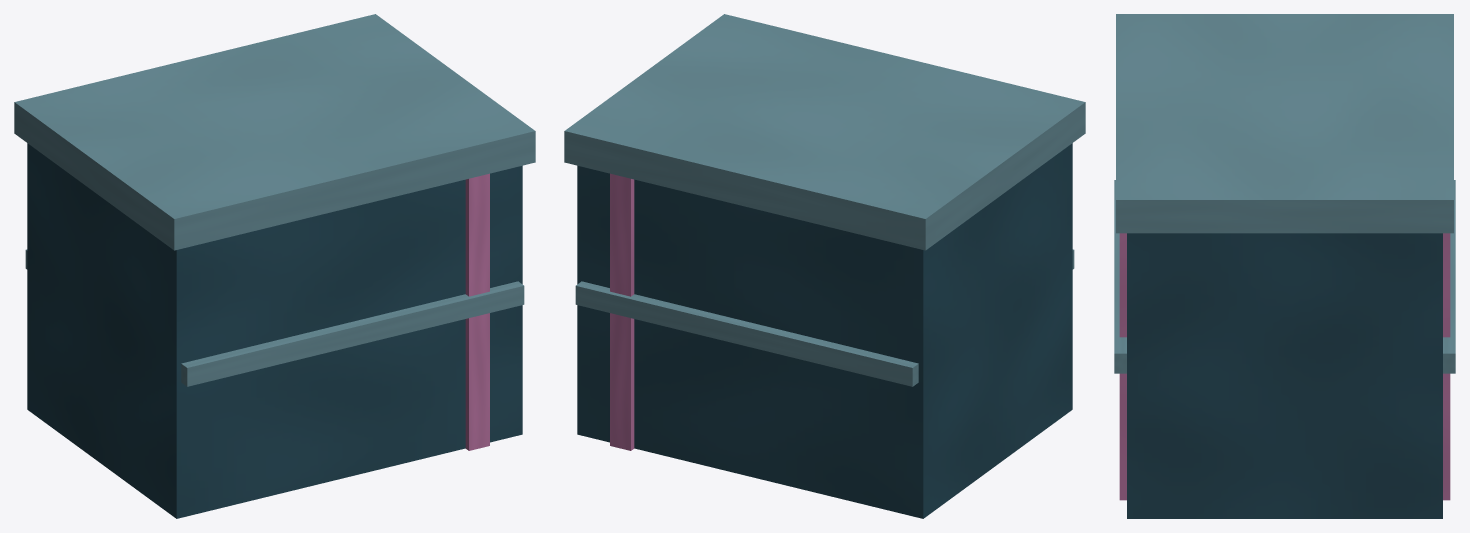
Rendered from atlas100-abyss-util02.lod2.glb.
3 views of the same model, side by side, from view 1: azimuth 30°, elevation 25°; view 2: azimuth 150°, elevation 25°; view 3: azimuth 270°, elevation 25° (orthographic). The views are drawn at different scales.
Visible parts, largest first — view 1: atlas100-abyss-util02:part-000, atlas100-abyss-util02:part-005, atlas100-abyss-util02:part-004, atlas100-abyss-util02:part-002; view 2: atlas100-abyss-util02:part-000, atlas100-abyss-util02:part-005, atlas100-abyss-util02:part-003, atlas100-abyss-util02:part-002; view 3: atlas100-abyss-util02:part-000, atlas100-abyss-util02:part-005, atlas100-abyss-util02:part-002, atlas100-abyss-util02:part-003, atlas100-abyss-util02:part-004.
Part boxes in pixels (x1,y1,x2,y2): atlas100-abyss-util02:part-000: (27,143,522,518); atlas100-abyss-util02:part-005: (14,14,535,250); atlas100-abyss-util02:part-004: (181,281,524,386); atlas100-abyss-util02:part-002: (465,173,489,450); atlas100-abyss-util02:part-000: (577,143,1072,518); atlas100-abyss-util02:part-005: (564,14,1085,250); atlas100-abyss-util02:part-003: (575,281,918,386); atlas100-abyss-util02:part-002: (610,173,634,450); atlas100-abyss-util02:part-000: (1127,233,1442,518); atlas100-abyss-util02:part-005: (1116,14,1453,233); atlas100-abyss-util02:part-002: (1119,233,1450,500); atlas100-abyss-util02:part-003: (1443,180,1455,373); atlas100-abyss-util02:part-004: (1114,180,1126,373).
Size of the model in its own units: 1.31 by 1.06 by 1.02.
Materials: 3 (3 with a texture image).
